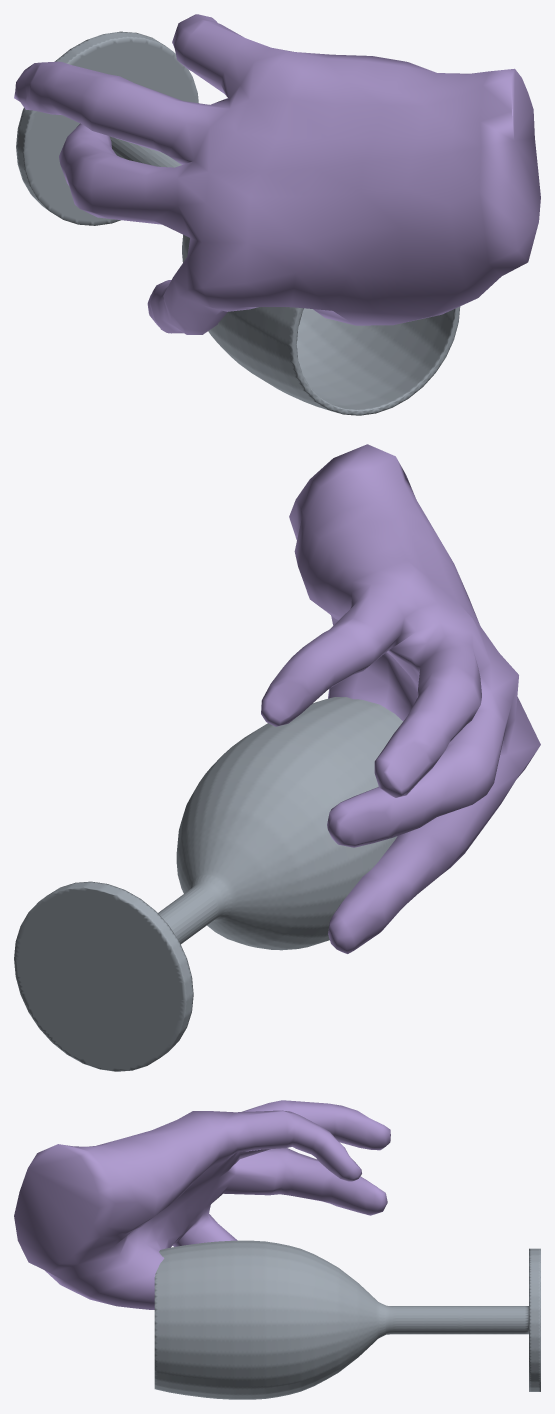
Rendered from ours_2.glb.
3 renders of one model, top to bottom at view 1: azimuth 30°, elevation 25°; view 2: azimuth 150°, elevation 25°; view 3: azimuth 270°, elevation 25°, orthographic. The views are drawn at different scales.
Size of the model in its own units: 0.1203 by 0.1334 by 0.2346.
